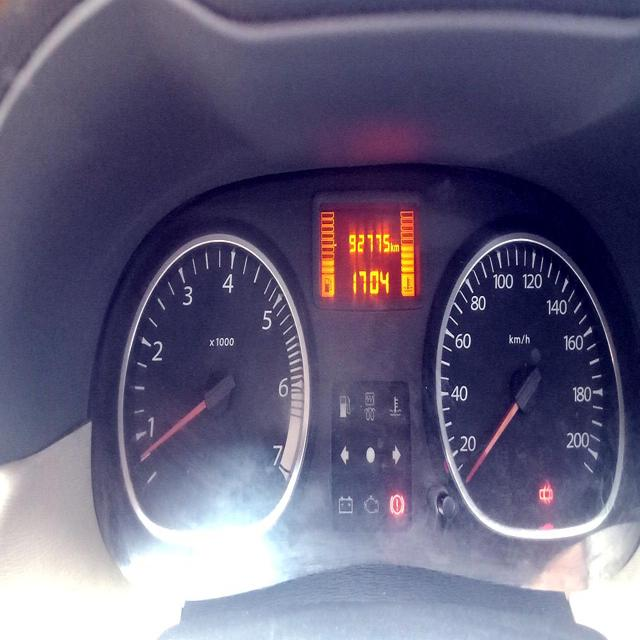odometer: (347, 228, 390, 255)
